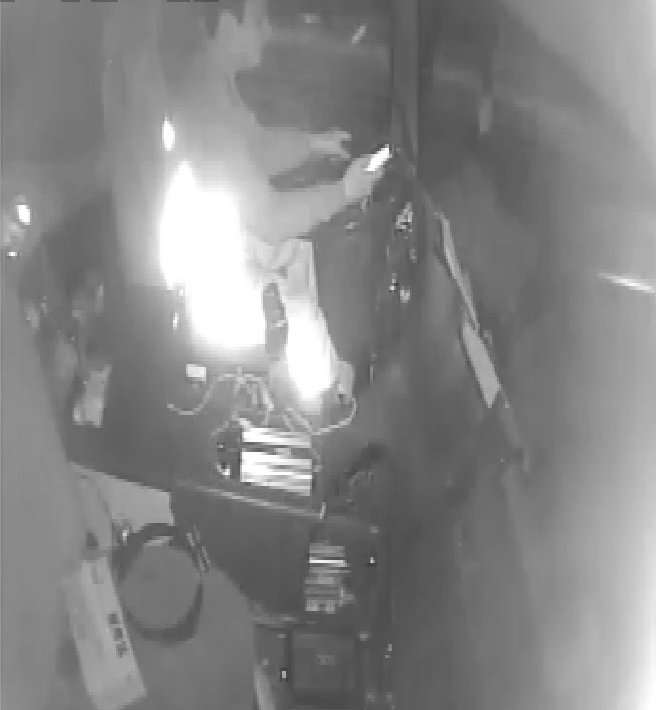cellphone: (346, 140, 393, 183)
